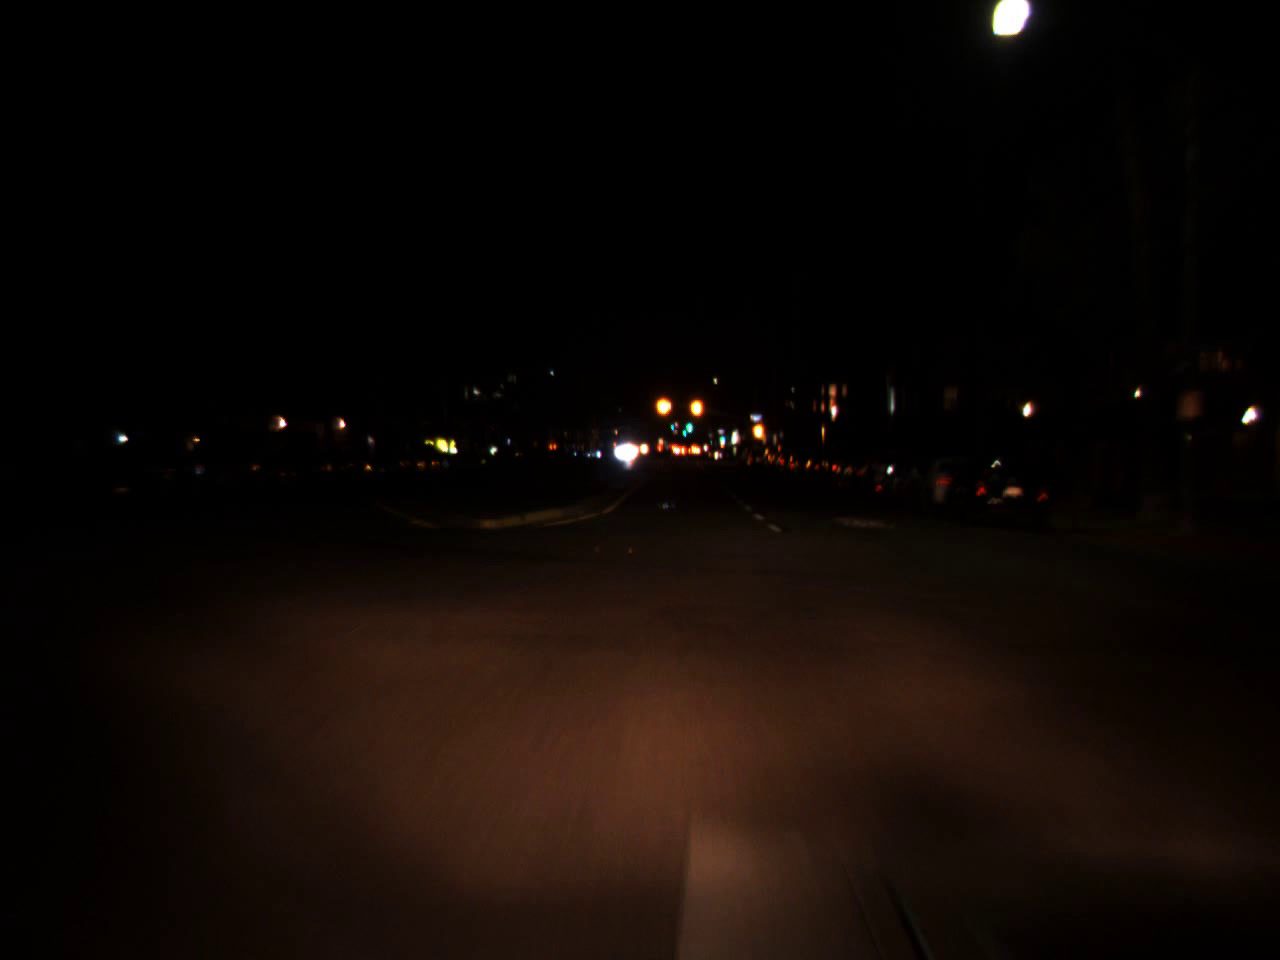go: (686, 417, 693, 435), (719, 429, 726, 444)
warning: (651, 386, 675, 426), (688, 387, 706, 427), (751, 412, 769, 447)
